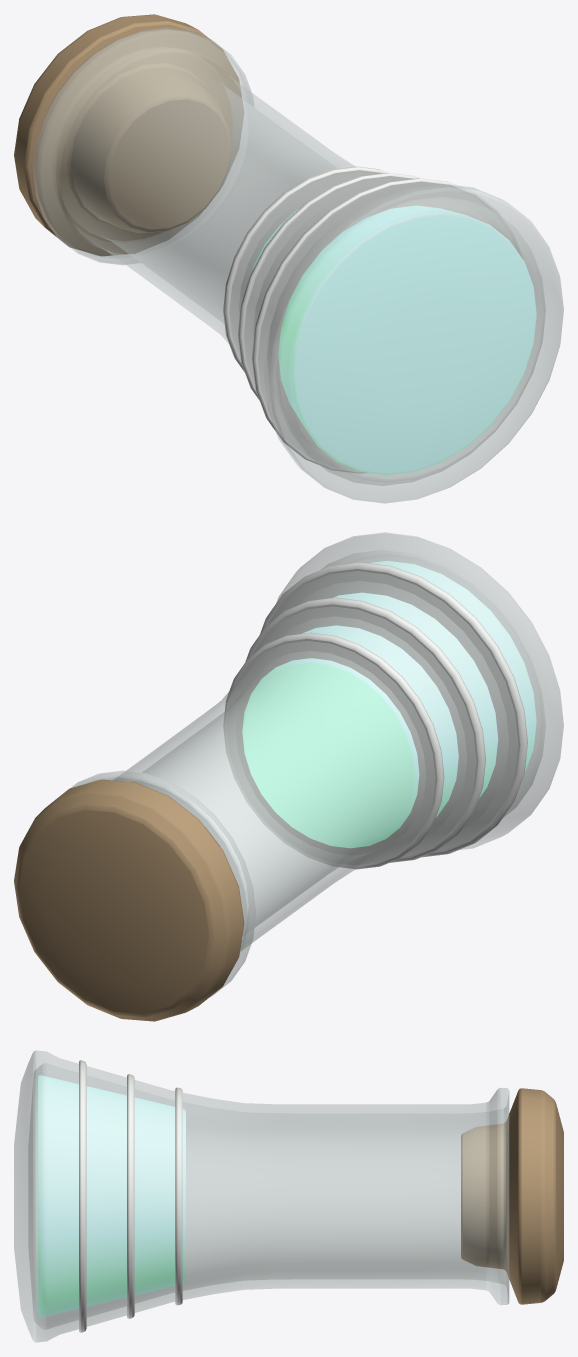
The model's file is chemical_flask.glb.
3 views of the same model, one above another, from view 1: azimuth 30°, elevation 25°; view 2: azimuth 150°, elevation 25°; view 3: azimuth 270°, elevation 25° (orthographic). The views are drawn at different scales.
Parts seen in each view (by area): view 1: ChemicalFlask; view 2: ChemicalFlask; view 3: ChemicalFlask.
Part boxes in pixels (x1=…): ChemicalFlask: x1=14, y1=14, x2=563, y2=503; ChemicalFlask: x1=14, y1=532, x2=563, y2=1021; ChemicalFlask: x1=14, y1=1050, x2=563, y2=1342.
Size of the model in its own units: 0.085 by 0.085 by 0.16.
